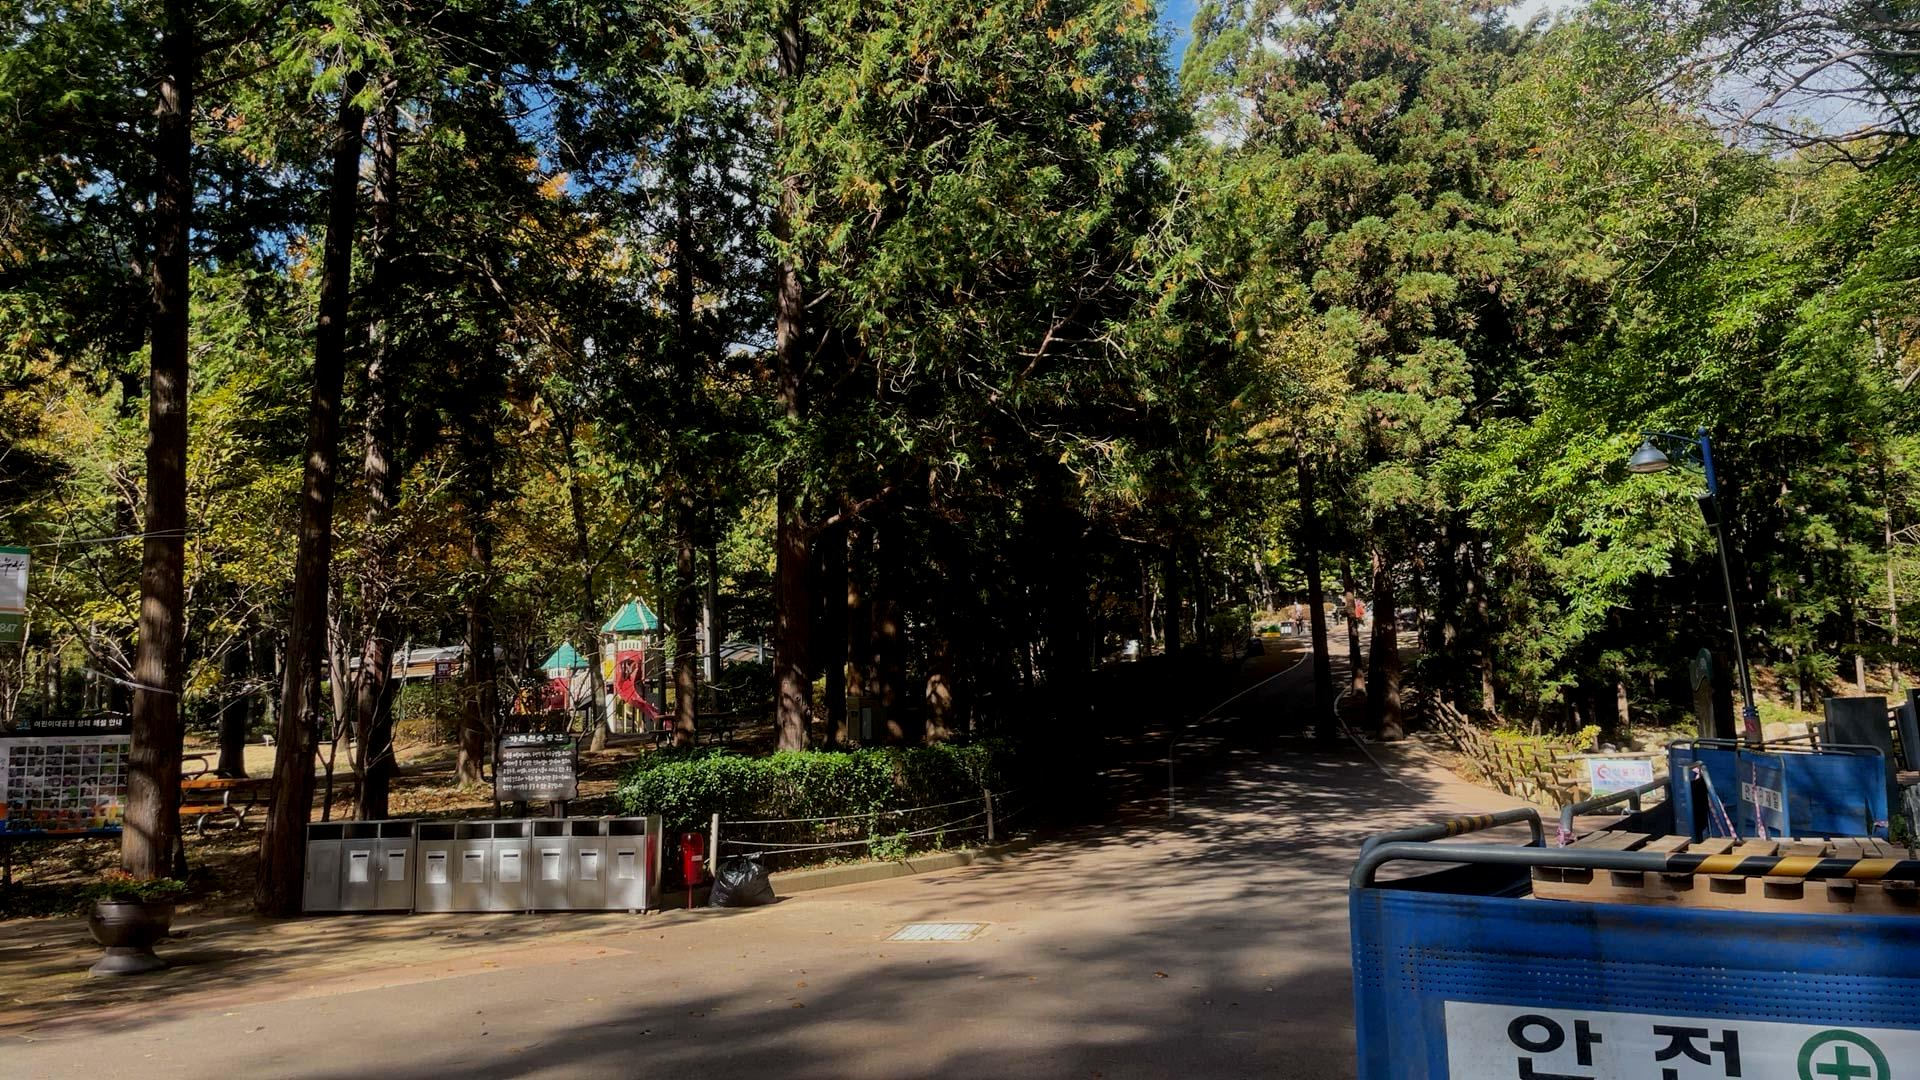black_bag: (705, 846, 781, 905), (1062, 770, 1103, 809), (1245, 636, 1265, 657)
